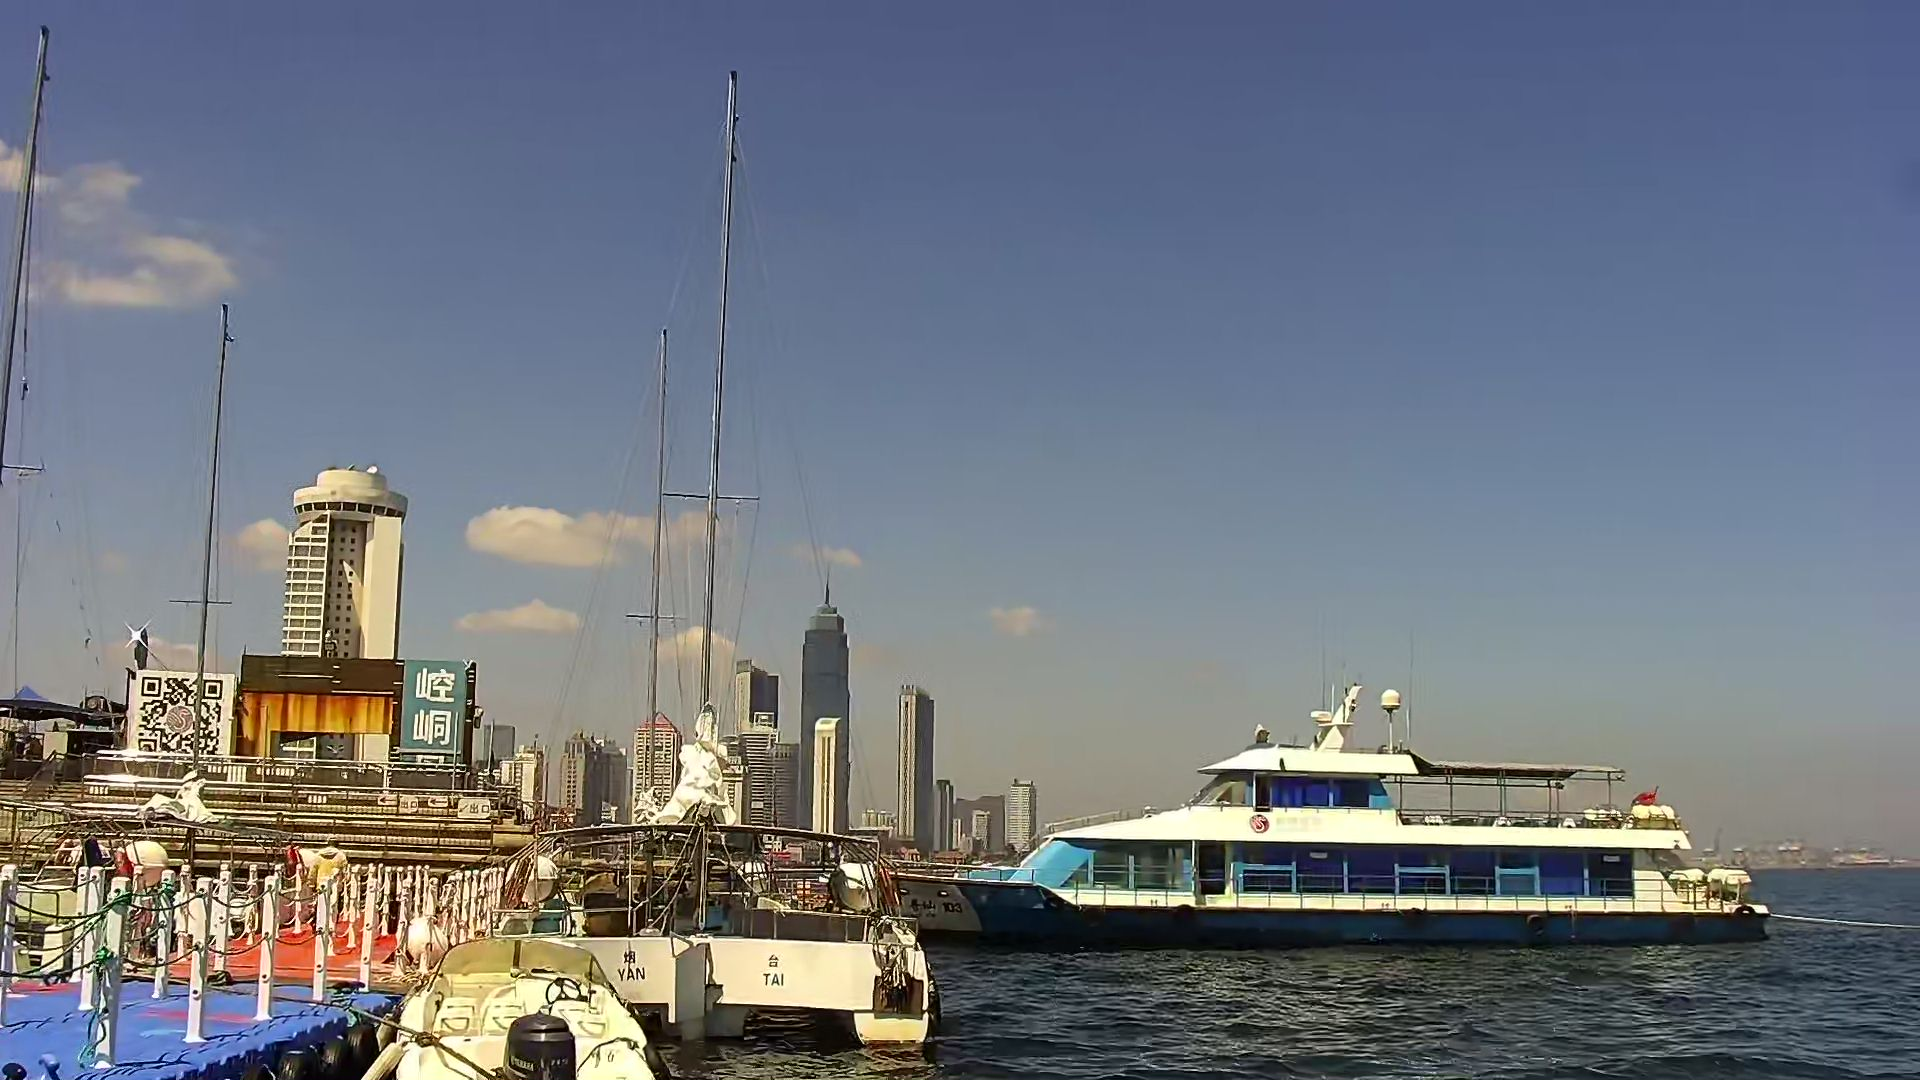boat: (488, 53, 971, 1054), (357, 924, 654, 1075)
harbor: (1, 824, 382, 1080)
ship: (864, 673, 1801, 963)
